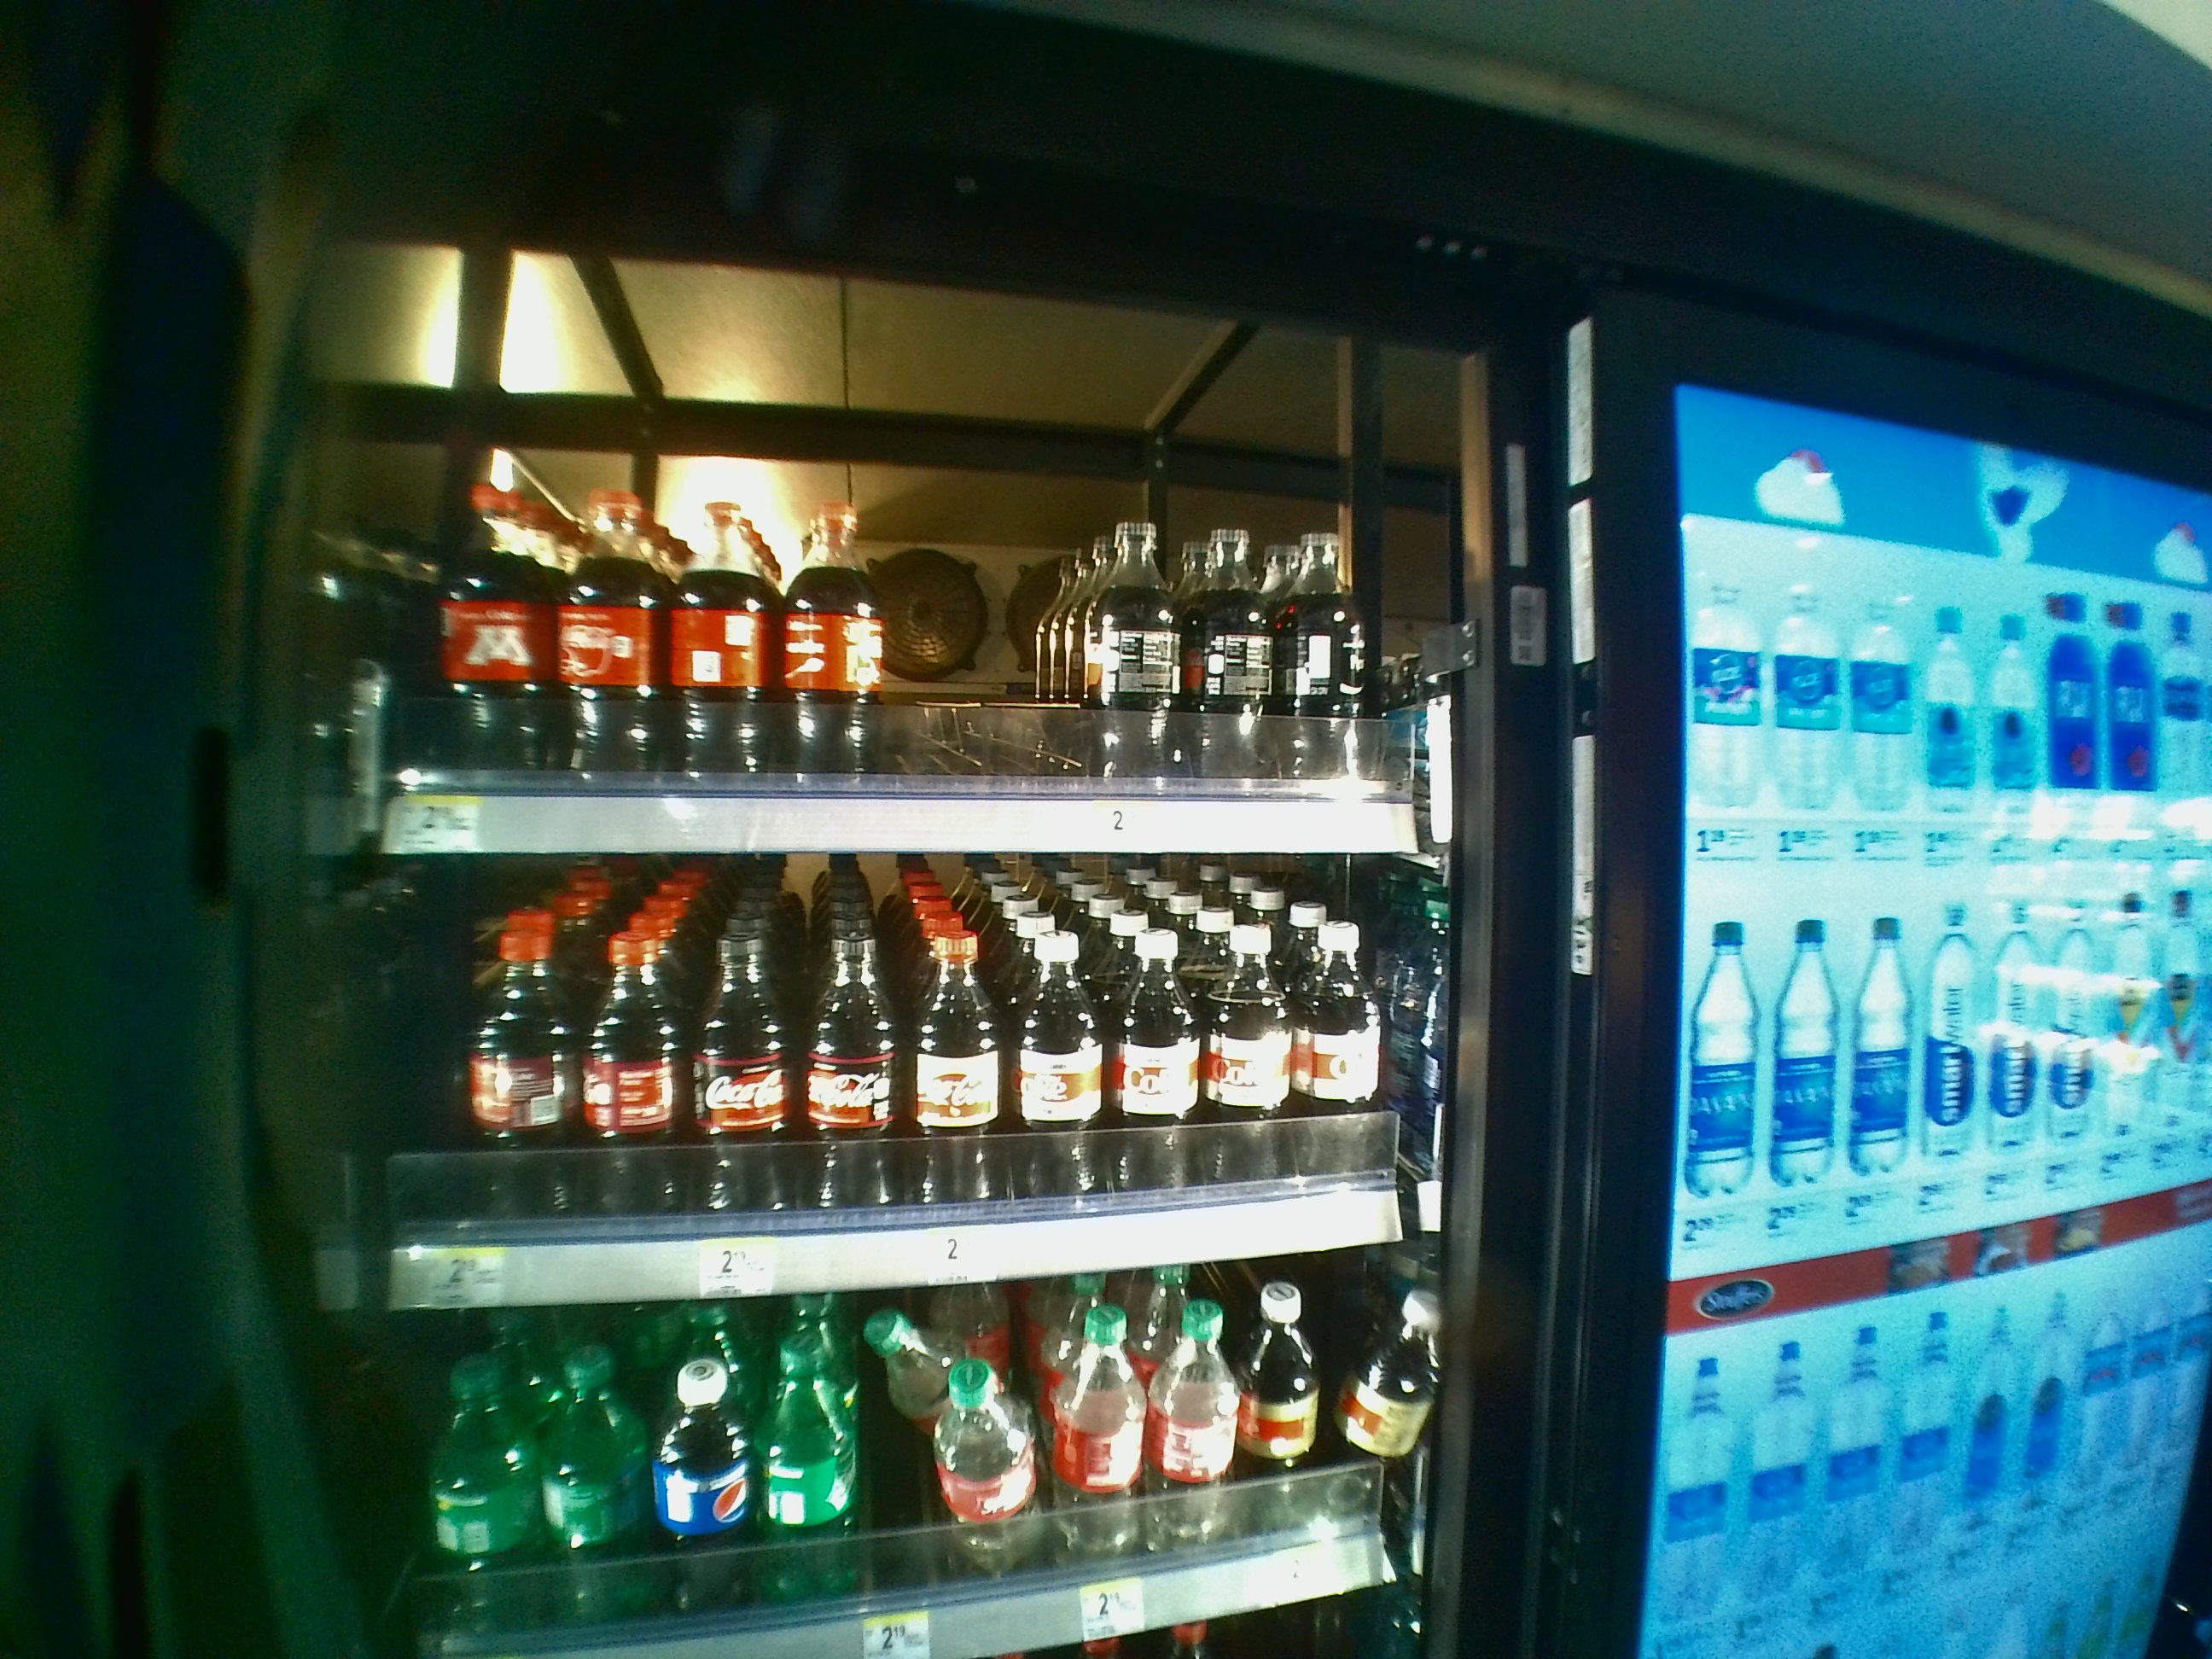shelf: (381, 376, 1420, 849), (387, 868, 1430, 1303)
